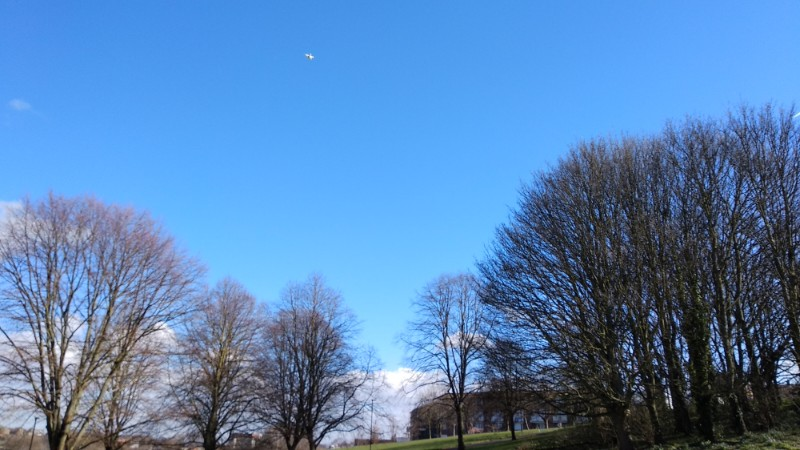drone: (303, 51, 317, 61)
